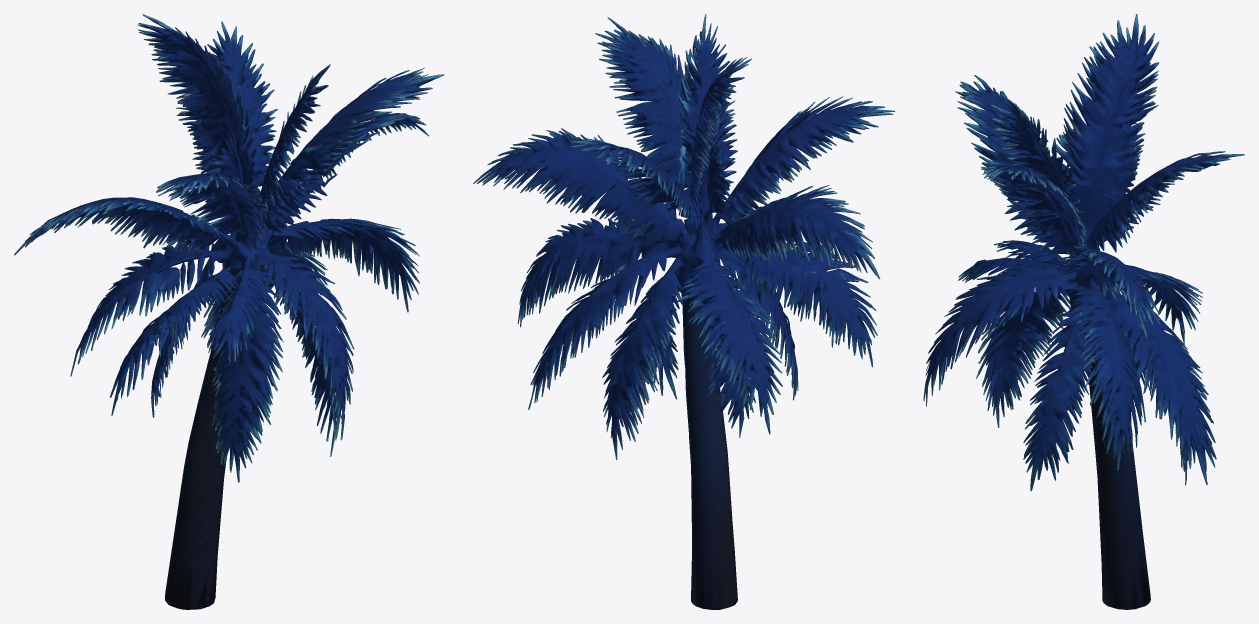
The model's file is palmeira-web.glb.
3 renders of one model, left to right at view 1: azimuth 30°, elevation 25°; view 2: azimuth 150°, elevation 25°; view 3: azimuth 270°, elevation 25°, orthographic. The views are drawn at different scales.
Visible parts, largest first — view 1: jota; view 2: jota; view 3: jota.
Part boxes in pixels (bbox=[...]): jota: bbox=[14, 14, 444, 609]; jota: bbox=[473, 14, 894, 609]; jota: bbox=[923, 14, 1244, 609].
Bounding box in the file's own units: 1.43 × 1.9 × 0.9776.
Materials: 1 (1 with a texture image).
